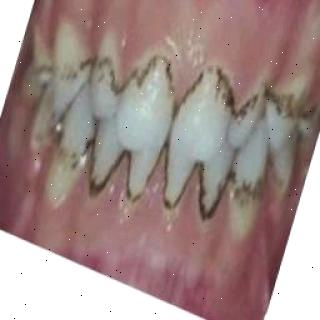stains: (178, 64, 244, 125), (157, 158, 184, 214), (84, 148, 118, 192), (122, 152, 150, 204), (38, 98, 66, 142), (58, 136, 88, 174), (130, 61, 169, 90), (236, 168, 258, 218), (94, 57, 120, 99), (199, 170, 221, 219), (58, 61, 92, 84), (272, 96, 298, 122), (266, 149, 290, 175), (238, 95, 258, 117)
